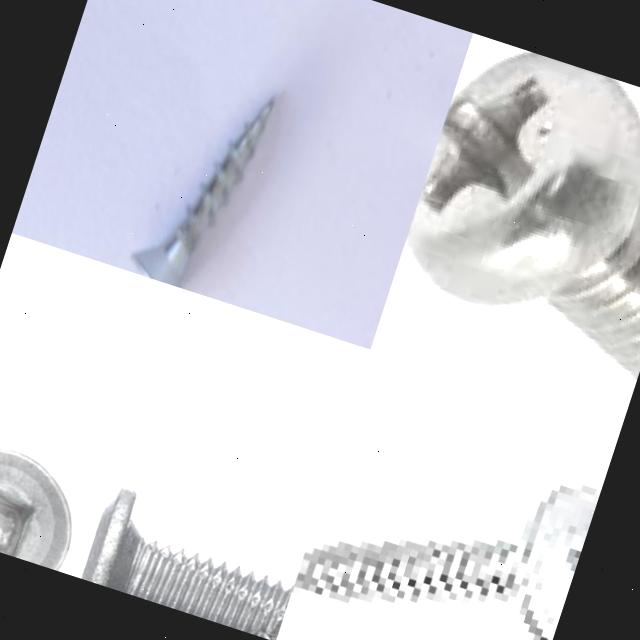Screw: (405, 51, 640, 381), (292, 485, 601, 640), (82, 489, 294, 640), (131, 99, 275, 288), (0, 439, 79, 573)
